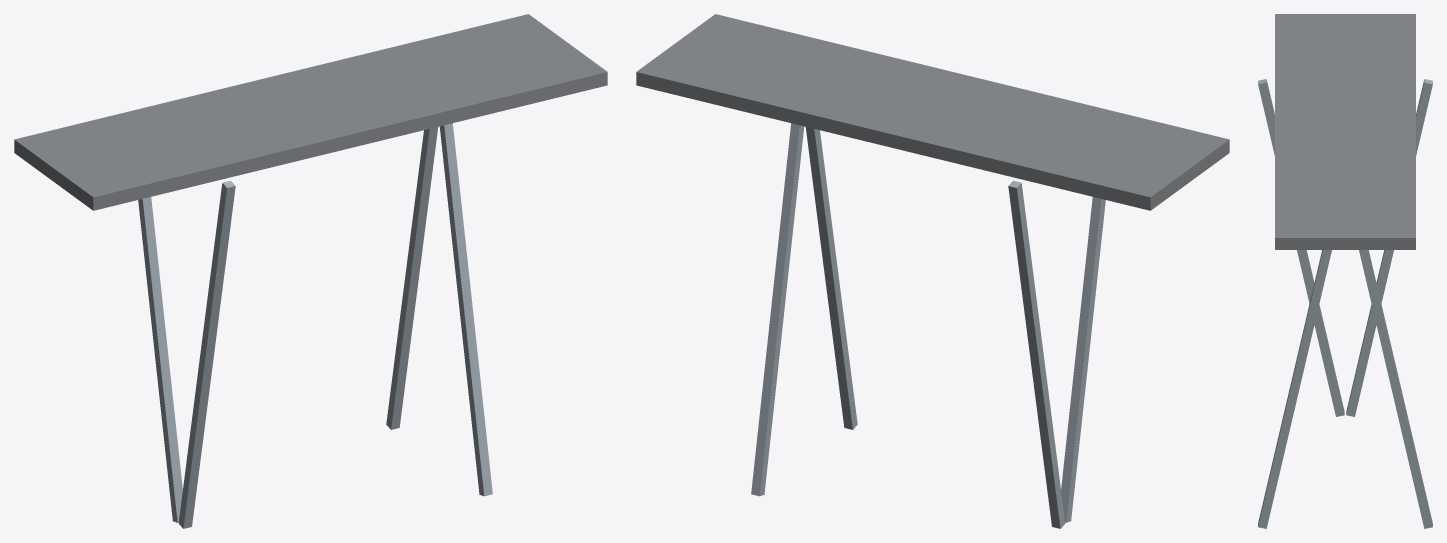
File: GD_IroningBoard_01.glb
The picture shows the model from 3 angles, left to right: view 1: azimuth 30°, elevation 25°; view 2: azimuth 150°, elevation 25°; view 3: azimuth 270°, elevation 25°; orthographic projection. The views are drawn at different scales.
Parts seen in each view (by area): view 1: GD_IroningBoard_01; view 2: GD_IroningBoard_01; view 3: GD_IroningBoard_01.
Boxes of the visible parts, bbox=[...] form: GD_IroningBoard_01: bbox=[14, 14, 607, 528]; GD_IroningBoard_01: bbox=[636, 14, 1229, 528]; GD_IroningBoard_01: bbox=[1258, 14, 1432, 528].
Size of the model in its own units: 1.2 by 0.8628 by 0.3963.
Materials: 1 (1 with a texture image).
